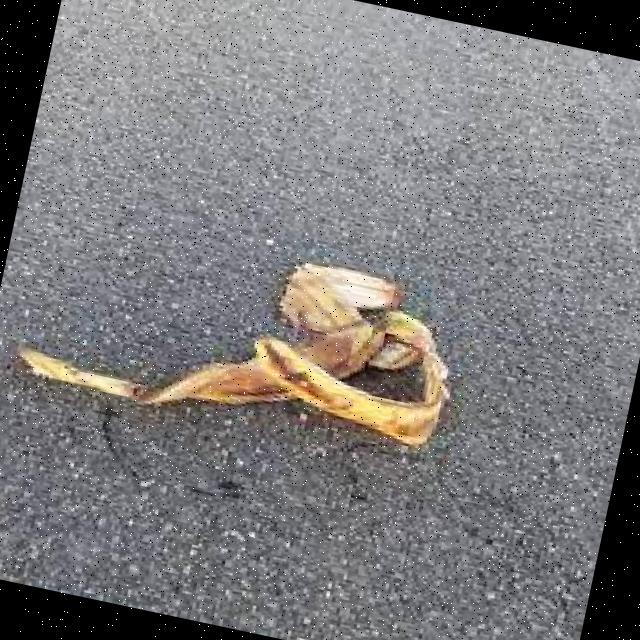banana-peel: (6, 200, 470, 471)
